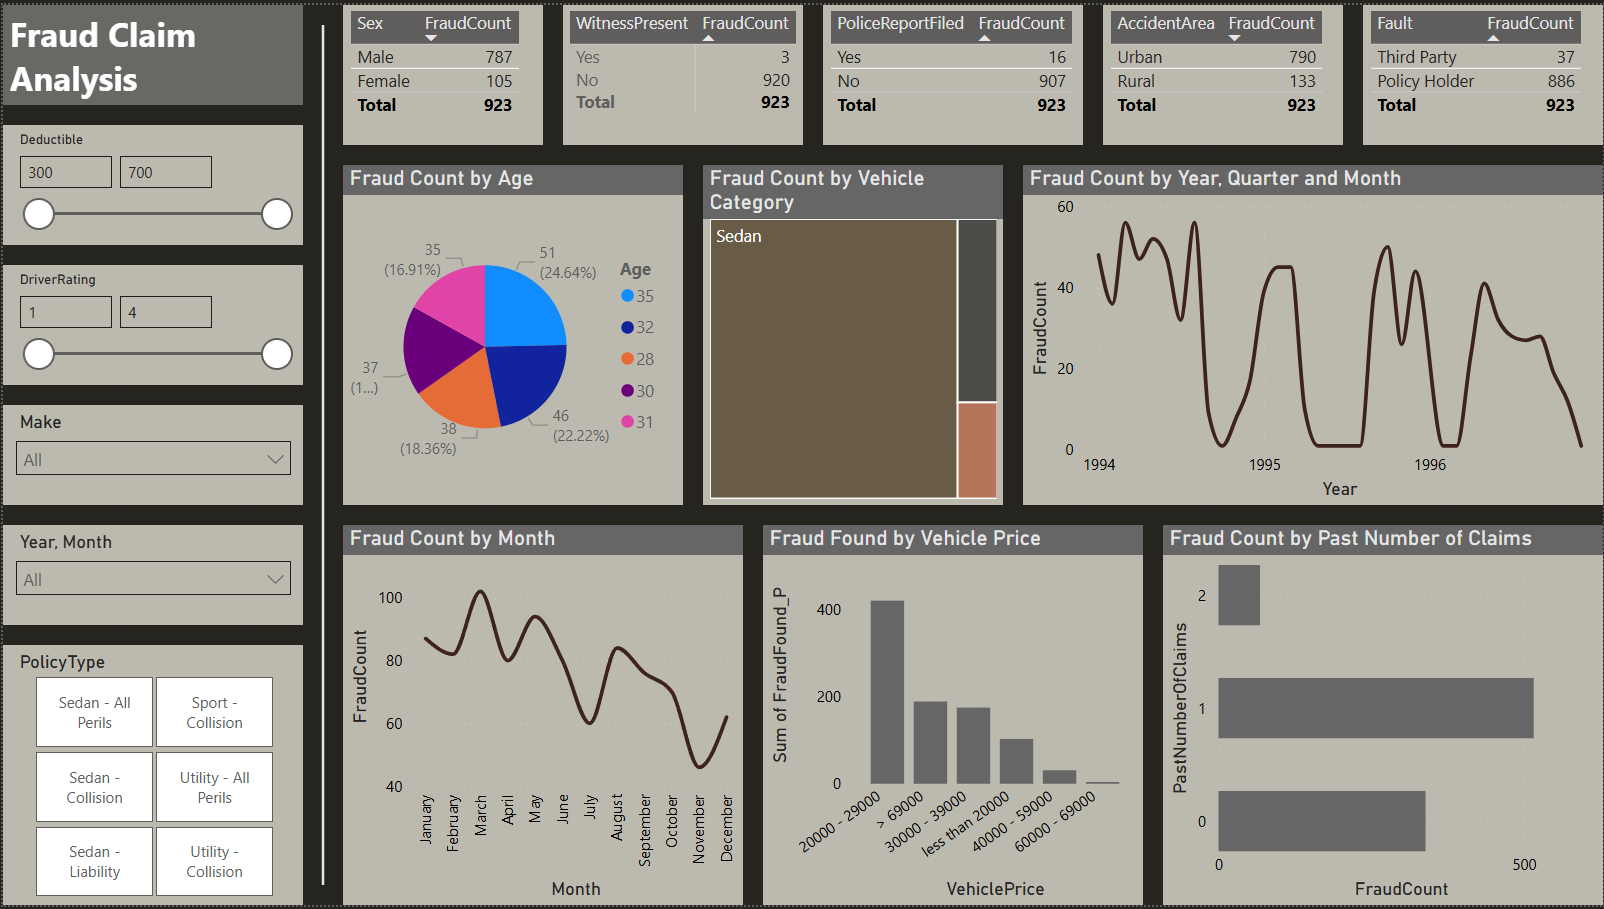

The dashboard page shown, as its layout file describes it:
{"tool":"powerbi","page":{"name":"Page 1","canvas":[1280,720],"ordinal":0},"visuals":[{"type":"lineChart","title":"Fraud Count by Year, Quarter and Month","fields":{"Y":["DAX.FraudCount"],"Category":["Calender.Date.Variation.Date Hierarchy.Year","Calender.Date.Variation.Date Hierarchy.Quarter","Calender.Date.Variation.Date Hierarchy.Month","Calender.Date.Variation.Date Hierarchy.Day"]},"box":[816,128,464,272],"z":0},{"type":"clusteredColumnChart","title":"Fraud Found by Vehicle Price","fields":{"Y":["Sum(FACT_ClaimFraud.FraudFound_P)"],"Category":["DIM_Vehicle.VehiclePrice"]},"box":[608,416,304,304],"z":1000},{"type":"pieChart","title":"Fraud Count by Age","fields":{"Category":["DIM_PolicyHolder.Age"],"Y":["DAX.FraudCount"]},"box":[272,128,272,272],"z":2000},{"type":"barChart","title":"Fraud Count by Past Number of Claims","fields":{"Category":["FACT_ClaimFraud.PastNumberOfClaims"],"Y":["DAX.FraudCount"]},"box":[928,416,352,304],"z":3000},{"type":"slicer","title":"DEDUCTIBLE","fields":{"Values":["FACT_ClaimFraud.Deductible"]},"box":[0,96,240,96],"z":4000},{"type":"slicer","fields":{"Values":["FACT_ClaimFraud.DriverRating"]},"box":[0,208,240,96],"z":5000},{"type":"slicer","fields":{"Values":["DIM_Vehicle.Make"]},"box":[0,320,240,80],"z":6000},{"type":"slicer","fields":{"Values":["DIM_Vehicle.PolicyType"]},"box":[0,512,240,208],"z":7000},{"type":"tableEx","fields":{"Values":["DIM_Incident.Fault","DAX.FraudCount"]},"box":[1088,0,192,112],"z":8000},{"type":"lineChart","title":"Fraud Count by Month","fields":{"Y":["DAX.FraudCount"],"Category":["Calender.Date.Variation.Date Hierarchy.Month"]},"box":[272,416,320,304],"z":9000},{"type":"slicer","fields":{"Values":["Calender.Date.Variation.Date Hierarchy.Year","Calender.Date.Variation.Date Hierarchy.Month"]},"box":[0,416,240,80],"z":10000},{"type":"pivotTable","fields":{"Rows":["DIM_Incident.WitnessPresent"],"Values":["DAX.FraudCount"]},"box":[448,0,192,112],"z":11000},{"type":"tableEx","fields":{"Values":["DIM_Incident.PoliceReportFiled","DAX.FraudCount"]},"box":[656,0,208,112],"z":12000},{"type":"tableEx","fields":{"Values":["DIM_Incident.AccidentArea","DAX.FraudCount"]},"box":[880,0,192,112],"z":13000},{"type":"tableEx","fields":{"Values":["DIM_PolicyHolder.Sex","DAX.FraudCount"]},"box":[272,0,160,112],"z":14000},{"type":"treemap","title":"Fraud Count by Vehicle Category","fields":{"Group":["DIM_Vehicle.VehicleCategory"],"Values":["DAX.FraudCount"]},"box":[560,128,240,272],"z":15000},{"type":"shape","box":[240,16,32,688],"z":16000},{"type":"textbox","box":[0,0,240,80],"z":17000}]}

Visuals, with their boxes in screenshot pixels (x1, y1, x2, y2), scaled from the page's 1280x720 canvas onto the 1604x909 screenshot:
"Fraud Count by Year, Quarter and Month" lineChart: bbox=[1023, 162, 1603, 505]
"Fraud Found by Vehicle Price" clusteredColumnChart: bbox=[762, 525, 1143, 908]
"Fraud Count by Age" pieChart: bbox=[341, 162, 682, 505]
"Fraud Count by Past Number of Claims" barChart: bbox=[1163, 525, 1603, 908]
"DEDUCTIBLE" slicer: bbox=[0, 121, 301, 242]
slicer - FACT_ClaimFraud.DriverRating: bbox=[0, 263, 301, 384]
slicer - DIM_Vehicle.Make: bbox=[0, 404, 301, 505]
slicer - DIM_Vehicle.PolicyType: bbox=[0, 646, 301, 908]
tableEx - DIM_Incident.Fault x DAX.FraudCount: bbox=[1363, 0, 1603, 141]
"Fraud Count by Month" lineChart: bbox=[341, 525, 742, 908]
slicer - Calender.Date.Variation.Date Hierarchy.Year x Calender.Date.Variation.Date Hierarchy.Month: bbox=[0, 525, 301, 626]
pivotTable - DIM_Incident.WitnessPresent x DAX.FraudCount: bbox=[561, 0, 802, 141]
tableEx - DIM_Incident.PoliceReportFiled x DAX.FraudCount: bbox=[822, 0, 1083, 141]
tableEx - DIM_Incident.AccidentArea x DAX.FraudCount: bbox=[1103, 0, 1343, 141]
tableEx - DIM_PolicyHolder.Sex x DAX.FraudCount: bbox=[341, 0, 541, 141]
"Fraud Count by Vehicle Category" treemap: bbox=[702, 162, 1002, 505]
shape: bbox=[301, 20, 341, 889]
textbox: bbox=[0, 0, 301, 101]
